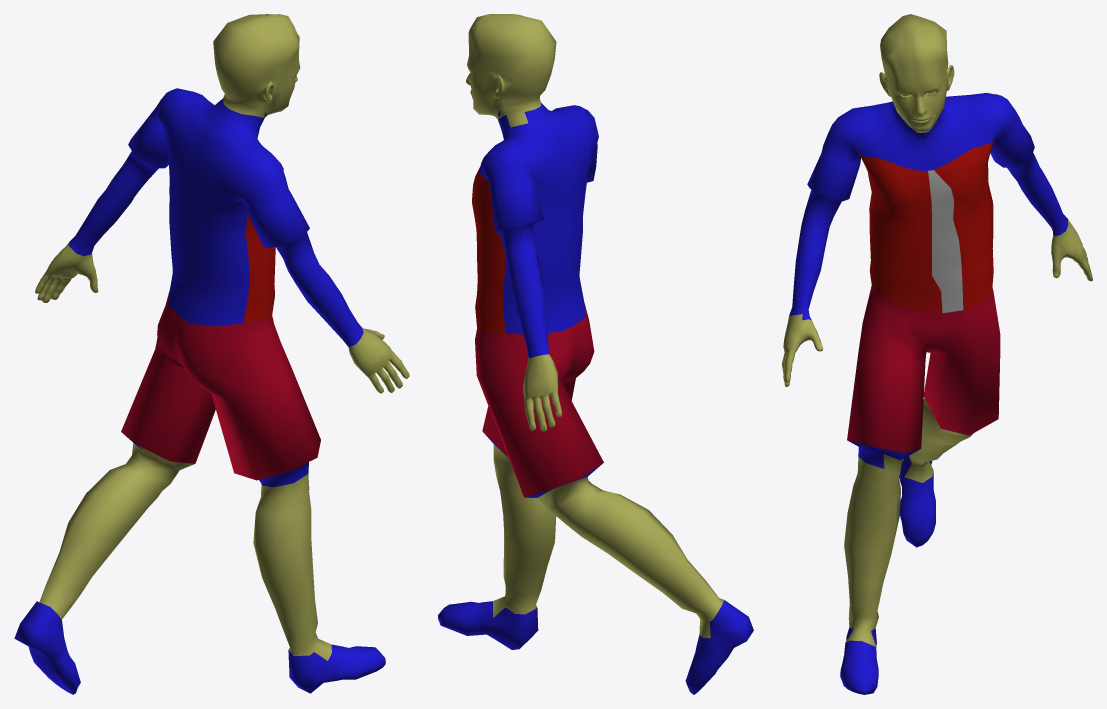
Rendered from player_000004.obj.
3 renders of one model, left to right at view 1: azimuth 30°, elevation 25°; view 2: azimuth 150°, elevation 25°; view 3: azimuth 270°, elevation 25°, orthographic. The views are drawn at different scales.
Parts seen in each view (by area): view 1: soccerplayer_mesh; view 2: soccerplayer_mesh; view 3: soccerplayer_mesh.
Part boxes in pixels (<box>): soccerplayer_mesh: <box>14,14,409,694</box>; soccerplayer_mesh: <box>438,14,753,694</box>; soccerplayer_mesh: <box>782,14,1092,694</box>.
Size of the model in its own units: 2.87 by 5.3 by 2.36.
